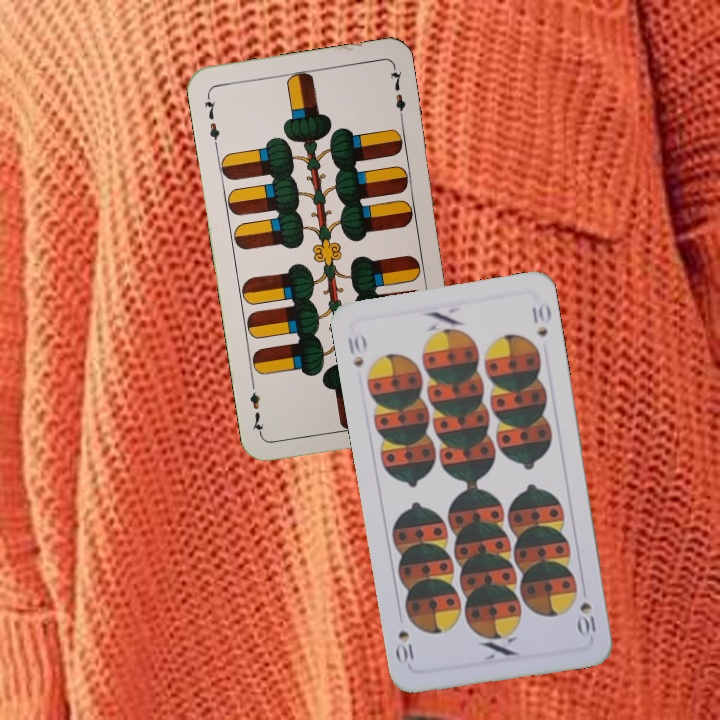E7: (200, 90, 223, 149)
S10: (343, 331, 369, 370), (575, 598, 599, 639)
